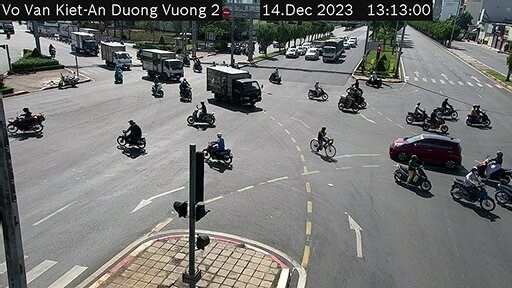car: (386, 122, 467, 172), (303, 47, 321, 60), (284, 46, 300, 59)
motorbike: (388, 154, 428, 194), (5, 105, 54, 136), (456, 167, 493, 207), (116, 119, 146, 156), (202, 131, 231, 169), (185, 99, 215, 130), (483, 147, 510, 176), (339, 89, 361, 117), (308, 80, 332, 104), (436, 93, 458, 118), (349, 80, 369, 107), (425, 105, 445, 132), (408, 99, 427, 125), (368, 71, 388, 92), (469, 101, 488, 123), (270, 67, 280, 88)
truck: (203, 65, 268, 106), (138, 48, 185, 81), (99, 40, 131, 68), (72, 30, 99, 56), (323, 36, 343, 67)
